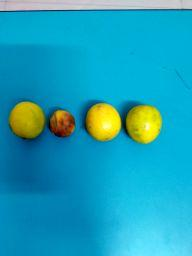lemon: (8, 100, 47, 141), (124, 104, 163, 145), (83, 102, 122, 142), (47, 109, 76, 138)
